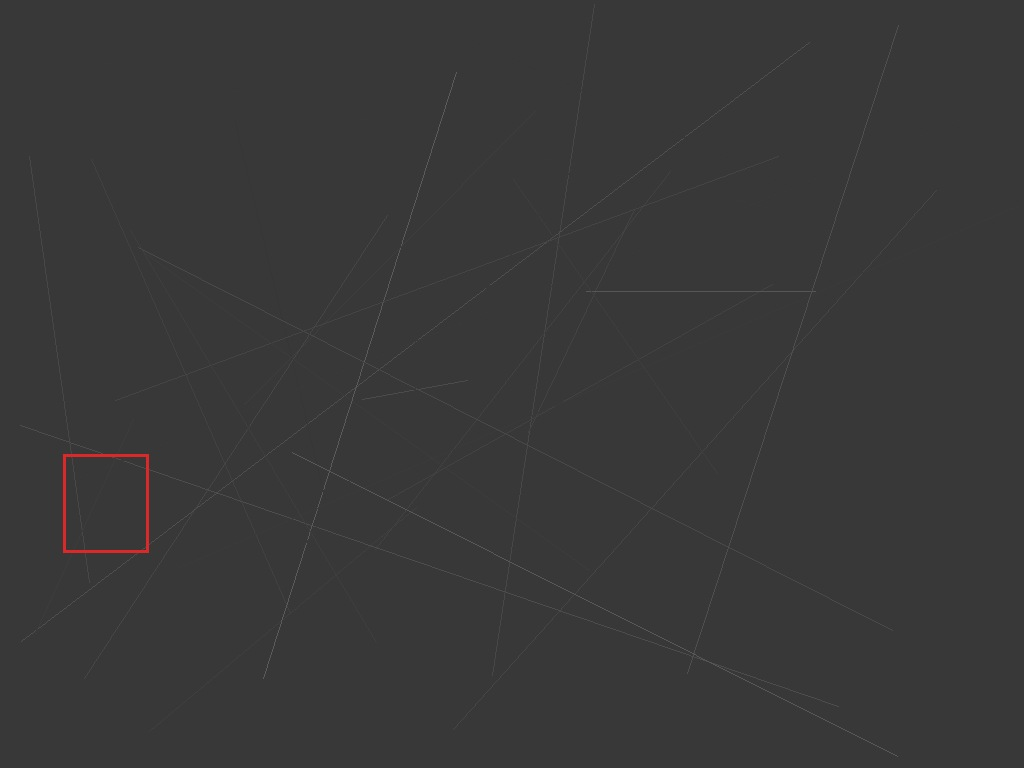D10: (63, 454, 148, 552)
